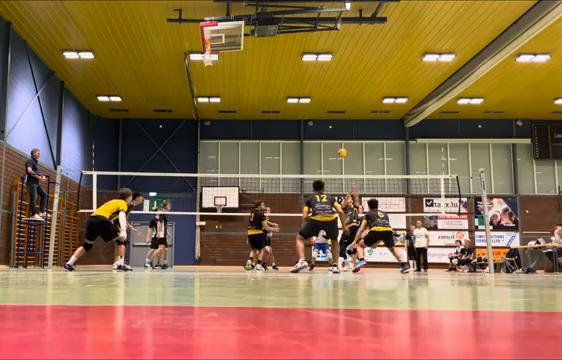Player: (64, 188, 131, 270), (290, 180, 345, 272), (352, 199, 410, 272), (246, 201, 278, 270), (144, 202, 170, 269), (309, 230, 332, 270), (144, 214, 158, 267), (262, 230, 278, 269), (113, 239, 131, 270)
Set: (332, 180, 363, 270)
ball: (336, 148, 347, 158)
